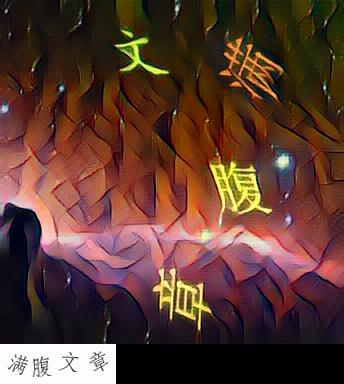character: (212, 36, 287, 110), (148, 265, 223, 337), (204, 156, 278, 228), (111, 24, 173, 86)
